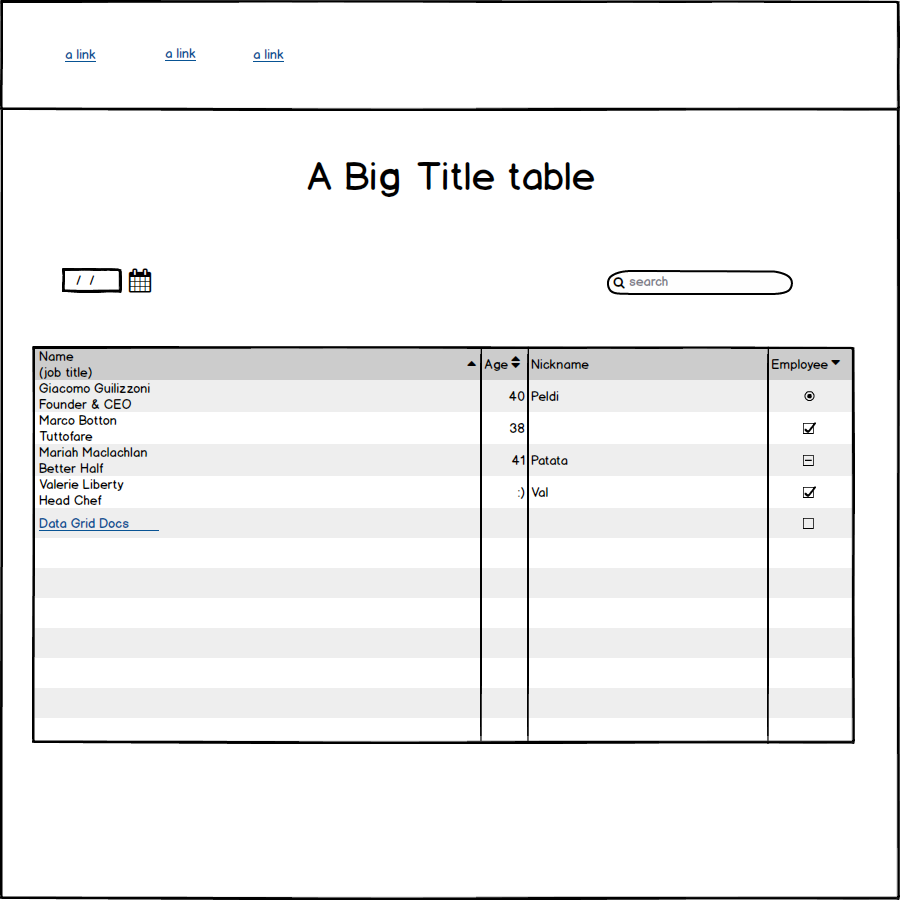date_picker: (55, 263, 163, 300)
h1: (289, 152, 607, 204)
navlink: (156, 38, 208, 78), (57, 41, 107, 70), (248, 38, 290, 70)
search: (604, 262, 804, 300)
table: (23, 337, 863, 751)
